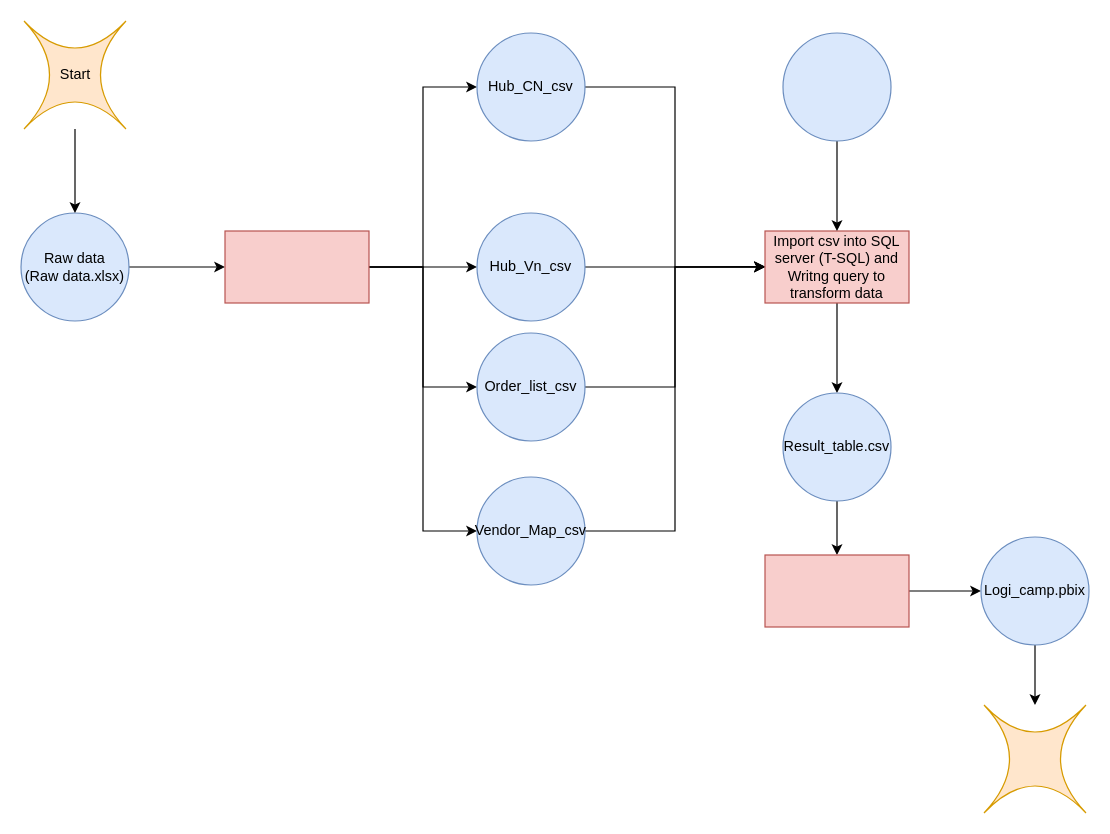
Some shapes in this 1110 by 834 pixel diagram are drawn without their labels. Here are the shapes that lost their labels. From the top down, the centre of each, then its label:
At point (836, 86): "Query.sql".
At point (296, 266): "roughly clean data in excel and extract to CSV".
At point (836, 590): "Visualize data in power BI".
At point (1034, 758): "End".
